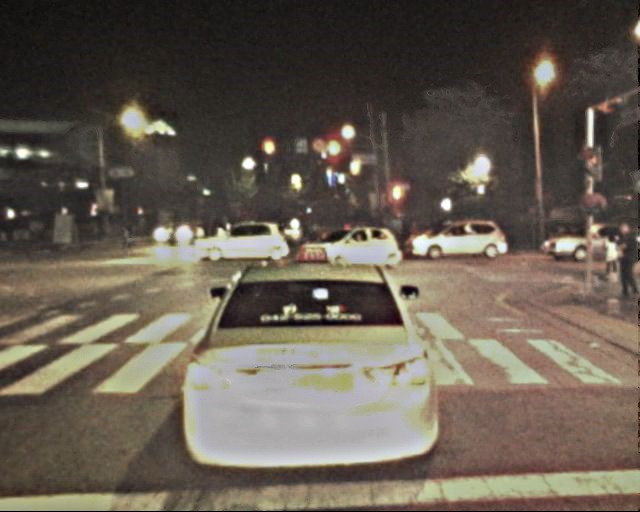person: (608, 221, 638, 294), (597, 229, 620, 285), (293, 221, 319, 246), (200, 219, 226, 241), (123, 215, 137, 249), (166, 217, 179, 249), (185, 216, 198, 247)
